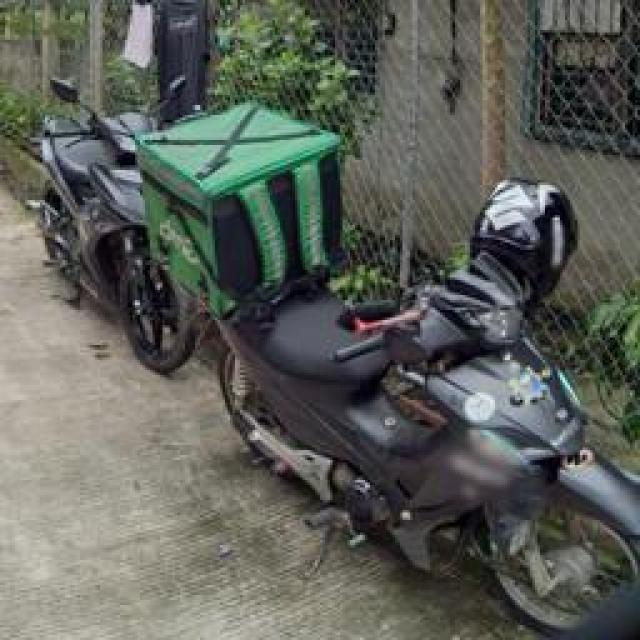motorcycle: (223, 179, 640, 618), (39, 78, 186, 372)
